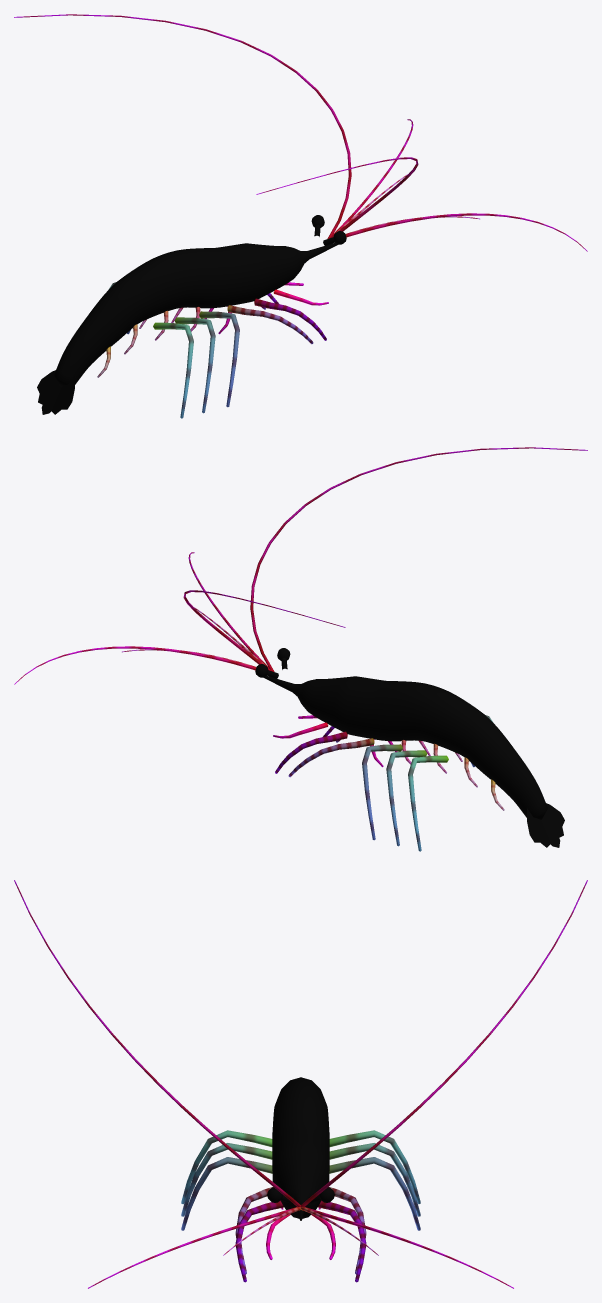
File: peppermint_shrimp.glb
3 views of the same model, one above another, from view 1: azimuth 30°, elevation 25°; view 2: azimuth 150°, elevation 25°; view 3: azimuth 270°, elevation 25° (orthographic). The views are drawn at different scales.
Visible parts, largest first — view 1: Body, Legs, Antennae; view 2: Body, Legs, Antennae; view 3: Legs, Body, Antennae.
Part boxes in pixels (<box>): Body: <box>37,242,338,414</box>; Legs: <box>97,282,328,418</box>; Antennae: <box>14,14,587,251</box>; Body: <box>263,675,564,847</box>; Legs: <box>273,715,504,851</box>; Antennae: <box>14,447,587,684</box>; Legs: <box>181,1130,420,1282</box>; Body: <box>272,1077,329,1220</box>; Antennae: <box>14,880,587,1288</box>.
Size of the model in its own units: 1.46 by 0.8811 by 1.35.
Materials: 2 (1 with a texture image).
